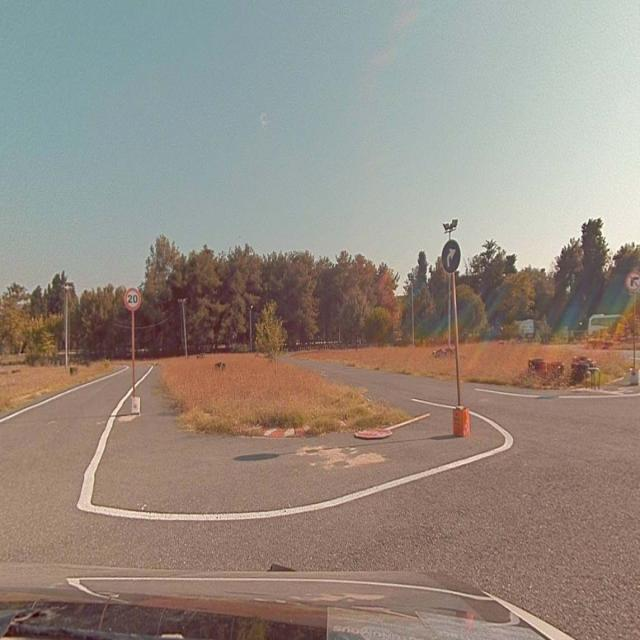20: (125, 287, 140, 309)
sag: (442, 241, 461, 272)
sagadonulmez: (627, 271, 640, 291)
